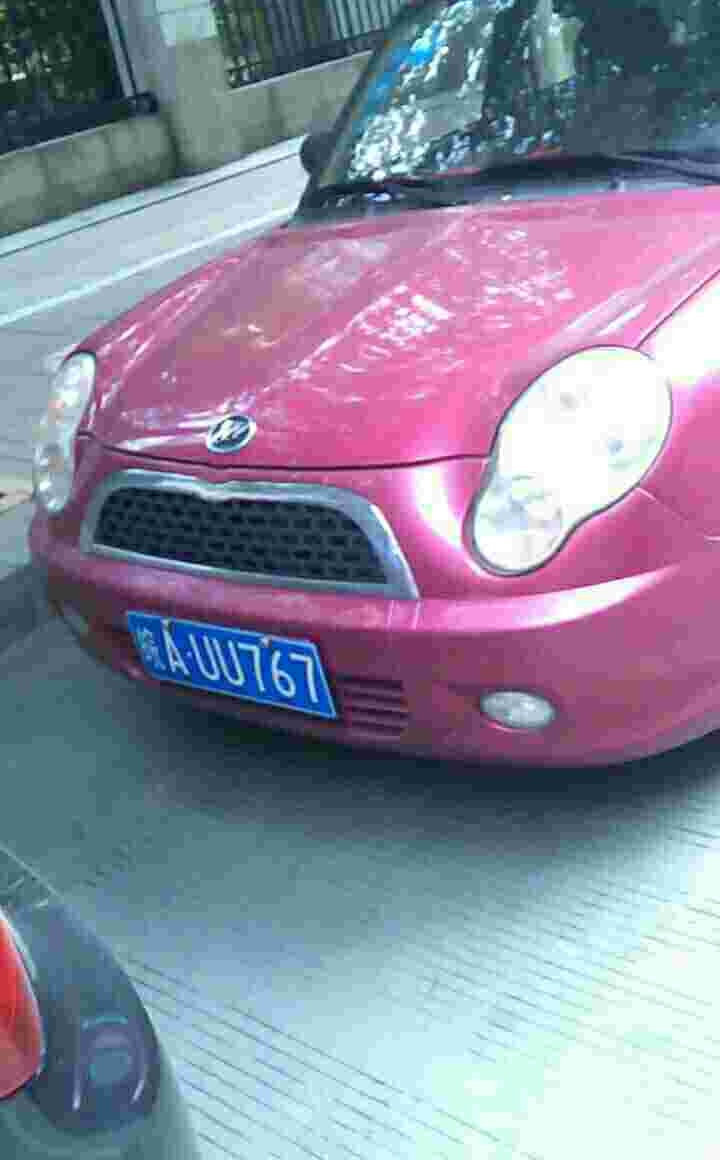license_plate: (133, 612, 324, 716)
